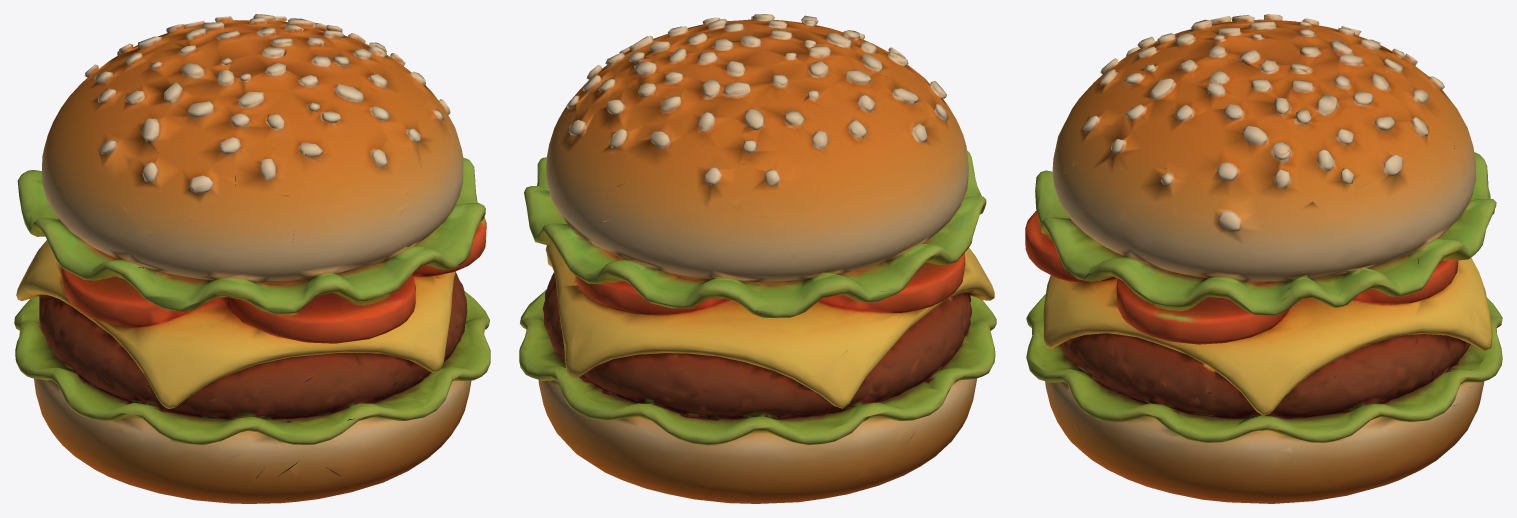
File: burger-v1.glb
The picture shows the model from 3 angles, left to right: view 1: azimuth 30°, elevation 25°; view 2: azimuth 150°, elevation 25°; view 3: azimuth 270°, elevation 25°; orthographic projection.
Visible parts, largest first — view 1: burger_surface; view 2: burger_surface; view 3: burger_surface.
Boxes of the visible parts, x1,y1,x2,y2 form: burger_surface: (14,14,490,503); burger_surface: (519,14,996,503); burger_surface: (1025,14,1502,503).
Size of the model in its own units: 0.1548 by 0.1409 by 0.1549.
Materials: 1 (1 with a texture image).
